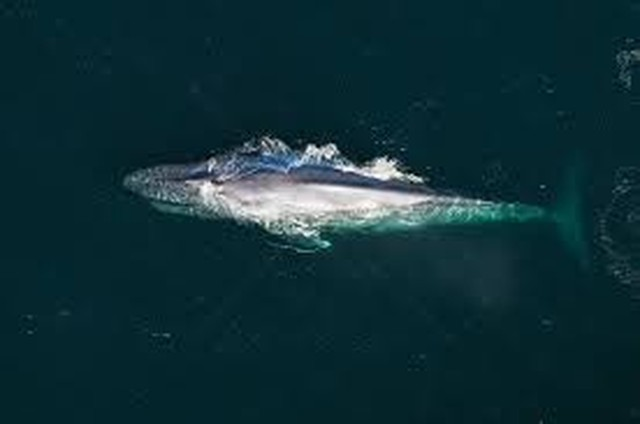whale: (117, 129, 599, 285)
